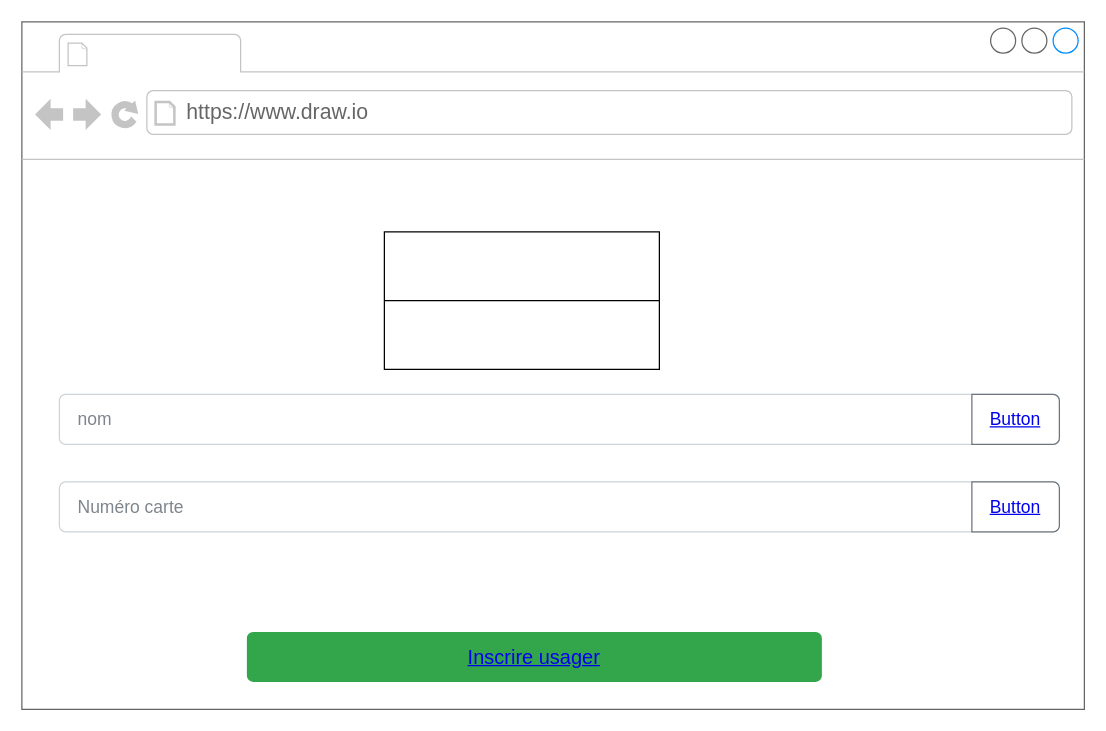
Image size: 1106x731. Some labels were removed from this diagram. The shapes that lost their labels are listed below. From the top down, each one's centre as x and y in pixels, then its label:
the point at 165,52: Gestion usagé
the point at 521,300: scan QR CODE
